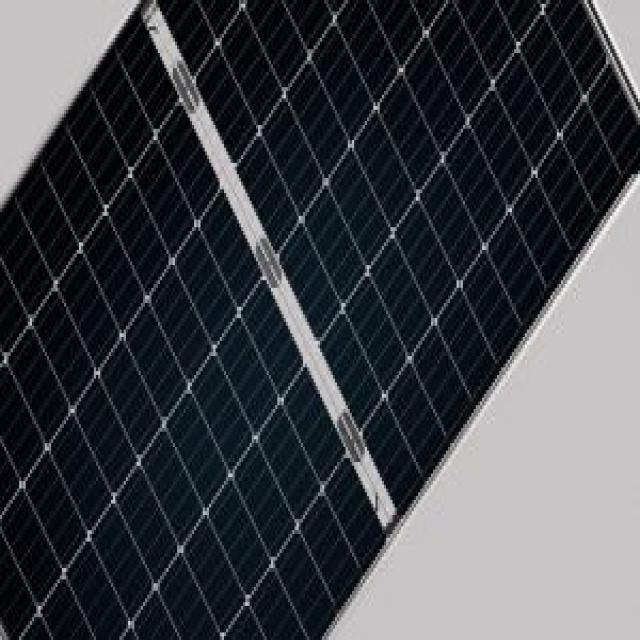no faulty: (155, 0, 640, 516), (1, 19, 389, 640)
